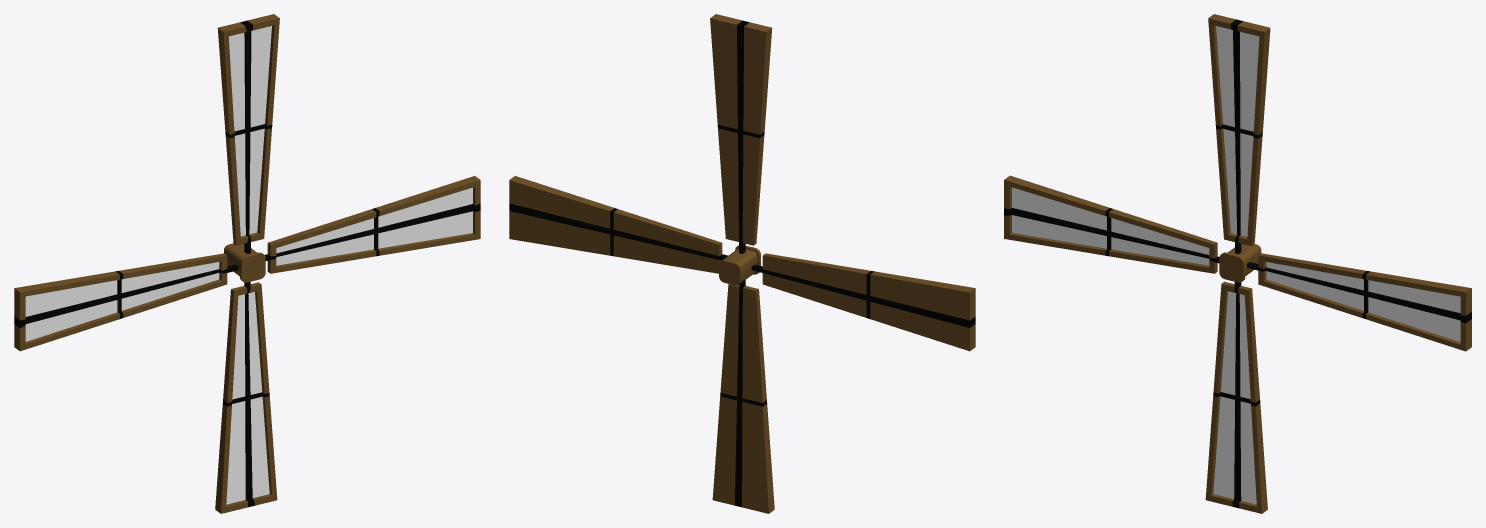
The model's file is Aspas REAL.fbx.
The picture shows the model from 3 angles, left to right: view 1: azimuth 30°, elevation 25°; view 2: azimuth 150°, elevation 25°; view 3: azimuth 330°, elevation 25°; orthographic projection.
Parts seen in each view (by area): view 1: Aspas(Molino); view 2: Aspas(Molino); view 3: Aspas(Molino).
Part boxes in pixels (x1,y1,x2,y2): Aspas(Molino): [14, 14, 480, 513]; Aspas(Molino): [509, 14, 975, 513]; Aspas(Molino): [1004, 14, 1471, 513].
Bounding box in the file's own units: 110 × 110 × 8.08.
